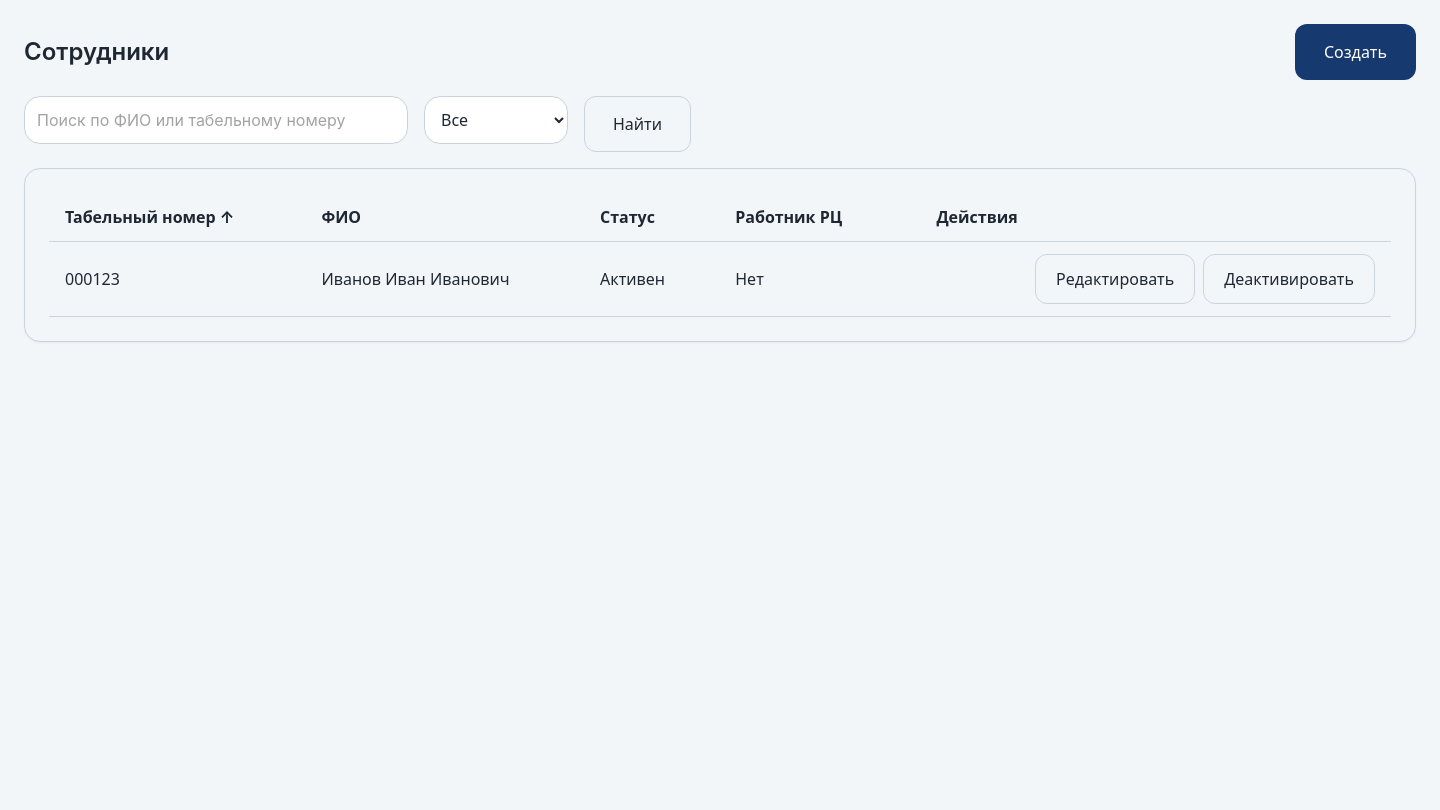
Test case: Диалог сотрудника: форма открывается с данными записи › при редактировании подставляет ФИО, табельный номер и признак допуска
Click the button "Редактировать": (1115, 279) x1=1035 y1=254 x2=1195 y2=304
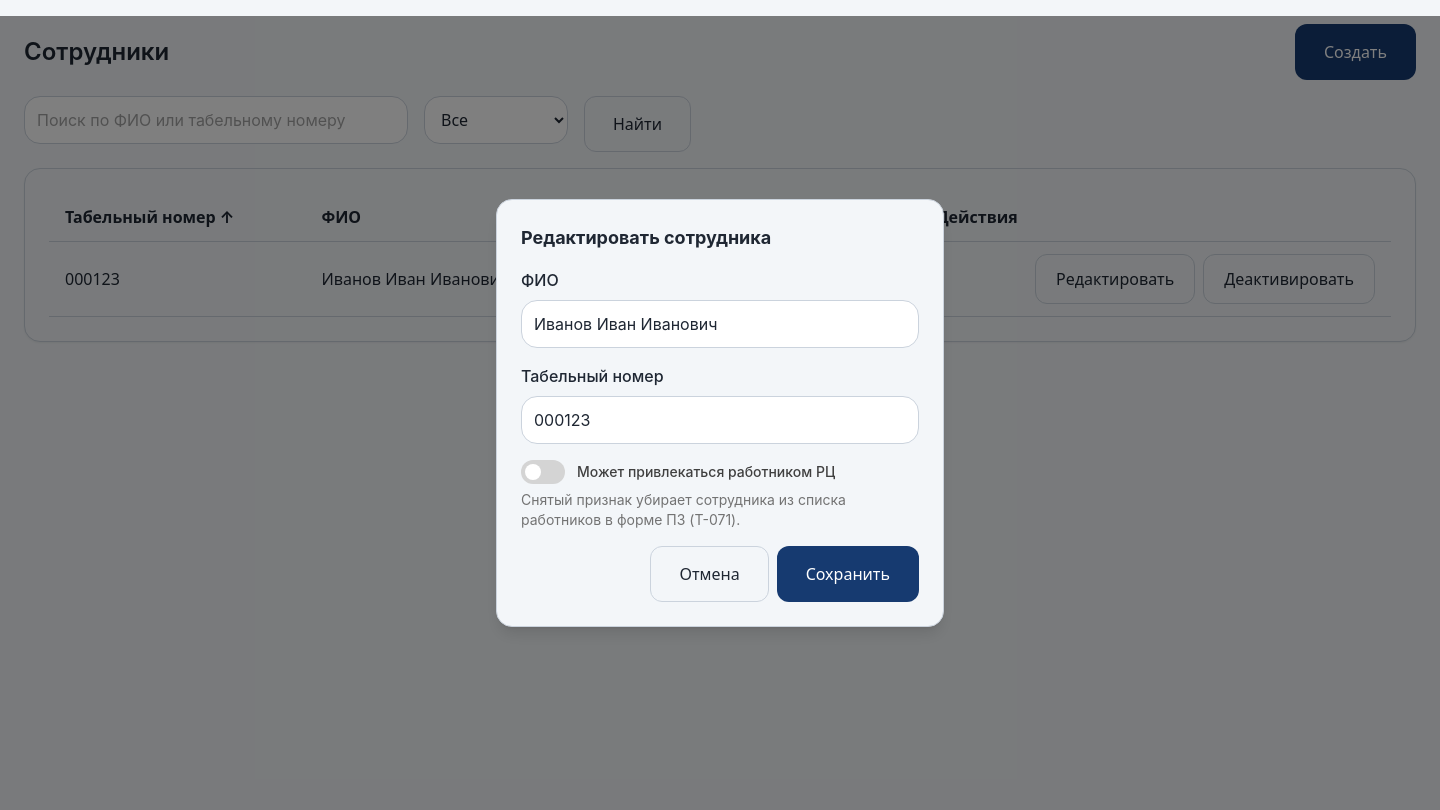
Result: the field labelled "ФИО" holds "Иванов Иван Иванович" at x1=521 y1=300 x2=919 y2=348
Result: the field labelled "Табельный номер" holds "000123" at x1=521 y1=396 x2=919 y2=444
Result: the checkbox labelled "Может привлекаться работником РЦ" is not checked at x1=521 y1=460 x2=835 y2=484
